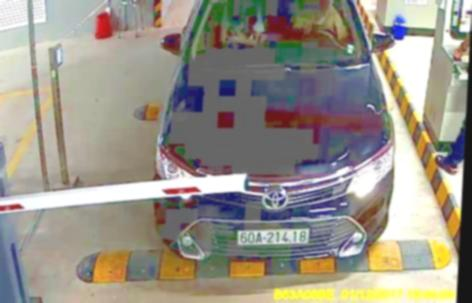License_Plate: (233, 225, 311, 246)
